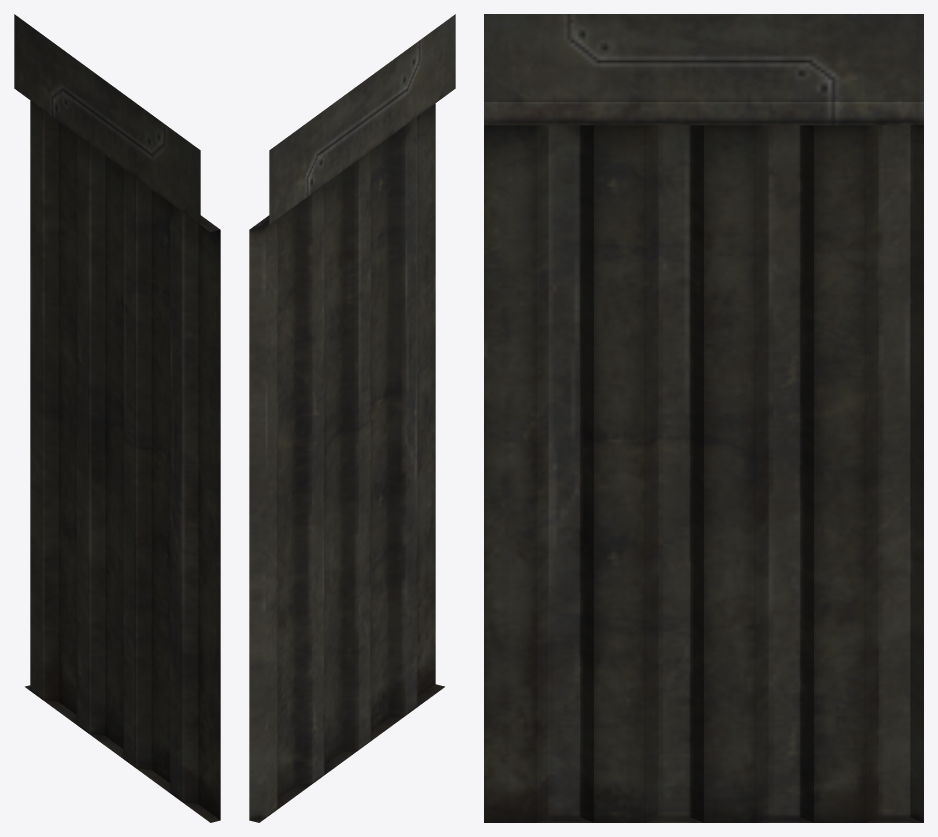
File: pplant_bulkhead_short.dae
3 renders of one model, left to right at view 1: azimuth 30°, elevation 25°; view 2: azimuth 150°, elevation 25°; view 3: azimuth 270°, elevation 25°, orthographic. The views are drawn at different scales.
Parts seen in each view (by area): view 1: bulkhead_short; view 2: bulkhead_short; view 3: bulkhead_short.
Part boxes in pixels (x1,y1,x2,y2): bulkhead_short: (14, 14, 220, 822); bulkhead_short: (249, 14, 455, 822); bulkhead_short: (484, 14, 923, 822).
Size of the model in its own units: 0.125 by 4 by 2.
